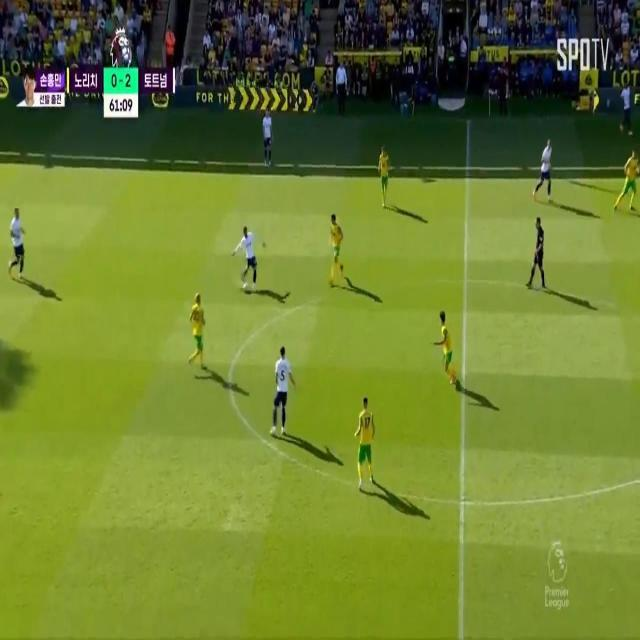ball: (241, 275, 252, 299)
player: (272, 344, 298, 436), (6, 207, 31, 279), (239, 221, 258, 295), (374, 137, 394, 206), (617, 154, 640, 211), (327, 208, 344, 281), (437, 308, 453, 384), (359, 395, 372, 481), (261, 109, 280, 166), (537, 135, 554, 197), (192, 288, 204, 373)
referee: (530, 218, 554, 296)
